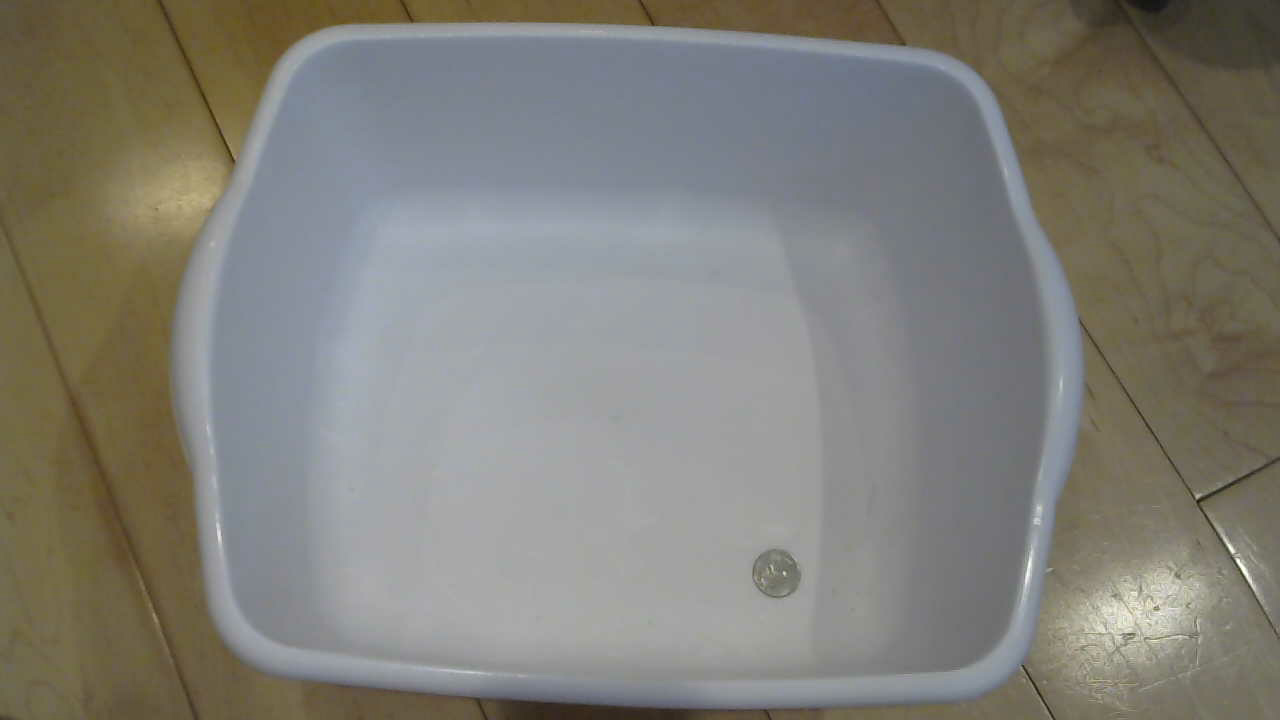coin: (749, 547, 813, 606)
